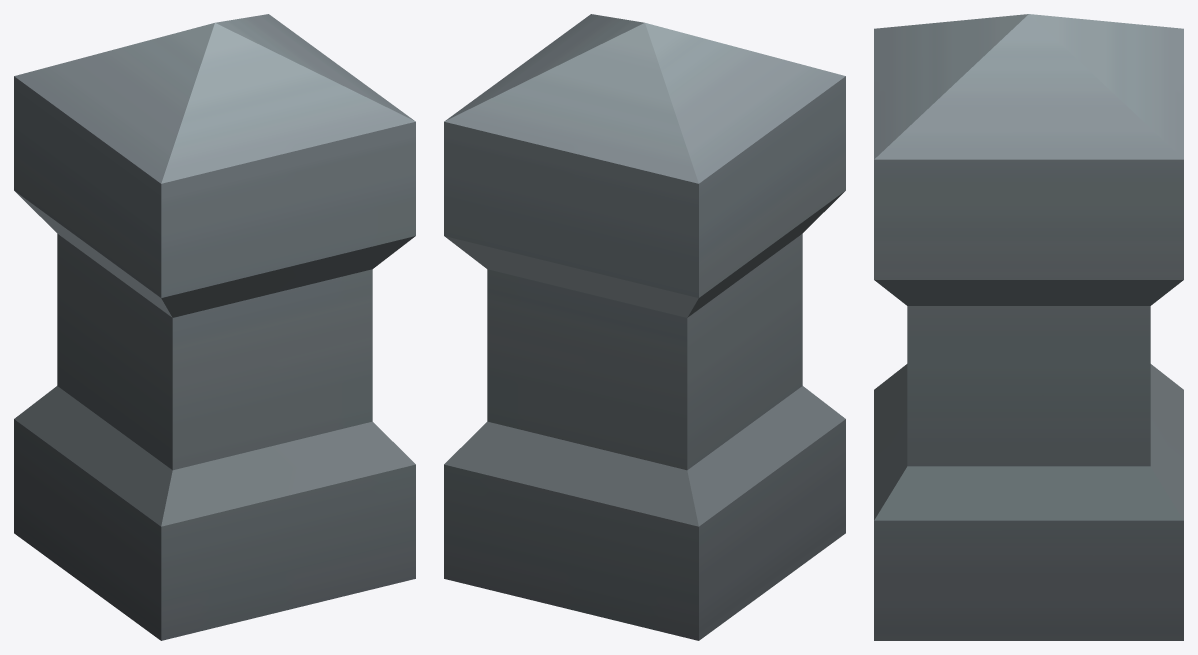
The model's file is column_gltf.glb.
The picture shows the model from 3 angles, left to right: view 1: azimuth 30°, elevation 25°; view 2: azimuth 150°, elevation 25°; view 3: azimuth 270°, elevation 25°; orthographic projection. The views are drawn at different scales.
Visible parts, largest first — view 1: column; view 2: column; view 3: column.
Part boxes in pixels (x1,y1,x2,y2): column: (14, 14, 415, 640); column: (444, 14, 845, 640); column: (874, 14, 1183, 640).
Size of the model in its own units: 0.7001 by 1.4 by 0.7001.
Materials: 1 (1 with a texture image).
